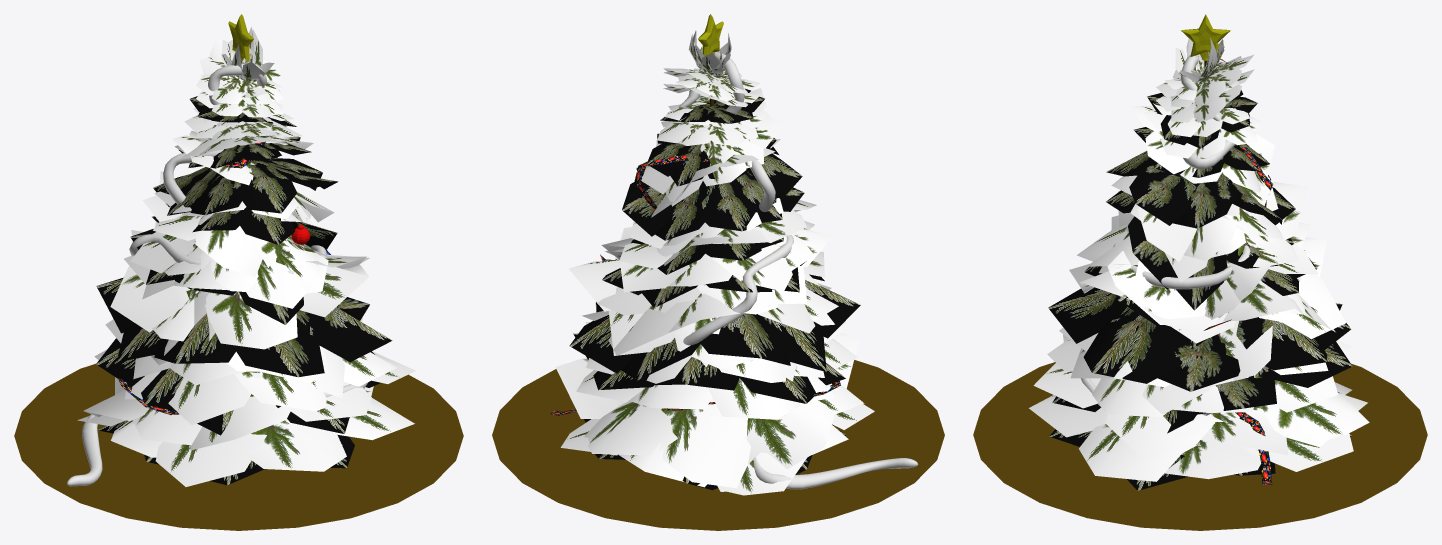
The model's file is Weihnachtsbaum.fbx.
The picture shows the model from 3 angles, left to right: view 1: azimuth 30°, elevation 25°; view 2: azimuth 150°, elevation 25°; view 3: azimuth 270°, elevation 25°; orthographic projection.
Parts seen in each view (by area): view 1: pPlane37, pDisc1, pCylinder4, pCylinder3; view 2: pPlane37, pDisc1, pCylinder4, pPlane39, pCylinder3; view 3: pPlane37, pDisc1, pCylinder4, pPlane39, pCylinder3.
Boxes of the visible parts, box(x1,y1,x2,y2) form: pPlane37: box(77, 26, 415, 486); pDisc1: box(14, 363, 463, 530); pCylinder4: box(66, 63, 367, 486); pCylinder3: box(228, 14, 253, 61); pPlane37: box(555, 30, 874, 495); pDisc1: box(492, 360, 944, 530); pCylinder4: box(678, 52, 918, 489); pPlane39: box(550, 154, 840, 415); pCylinder3: box(698, 14, 723, 62); pPlane37: box(1029, 38, 1369, 490); pDisc1: box(973, 362, 1427, 530); pCylinder4: box(1081, 54, 1250, 415); pPlane39: box(1204, 59, 1272, 484); pCylinder3: box(1181, 14, 1230, 60).
Size of the model in its own units: 47.44 by 50.04 by 47.44.
Materials: 9 (3 with a texture image).
